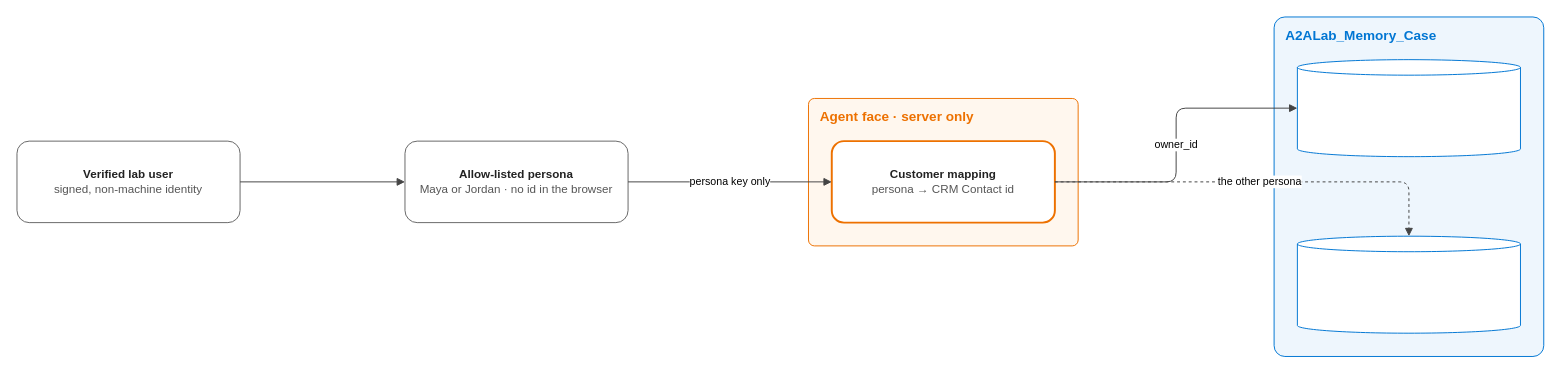
This 1561x373 diagram has some shape labels left out. Each missing label, with the box of its shape:
Jordan's owner facts · preferences · conversations: (1296, 235, 1520, 333)
Maya's owner facts · preferences · conversations: (1296, 59, 1520, 157)
